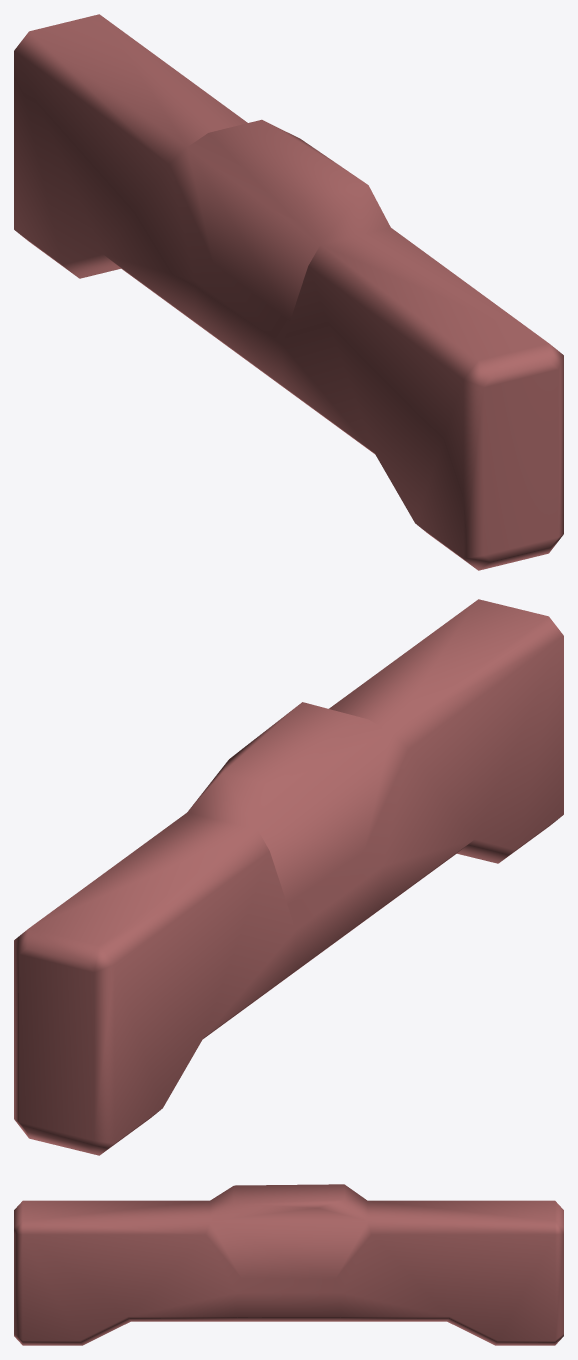
The model's file is PlatformEdge01.fbx.
The picture shows the model from 3 angles, top to bottom: view 1: azimuth 30°, elevation 25°; view 2: azimuth 150°, elevation 25°; view 3: azimuth 270°, elevation 25°; orthographic projection. The views are drawn at different scales.
Visible parts, largest first — view 1: PlatformEdge01; view 2: PlatformEdge01; view 3: PlatformEdge01.
Part boxes in pixels (bbox=[...]): PlatformEdge01: bbox=[14, 14, 563, 570]; PlatformEdge01: bbox=[14, 599, 563, 1155]; PlatformEdge01: bbox=[14, 1184, 563, 1345].
Size of the model in its own units: 50 by 113 by 400.
